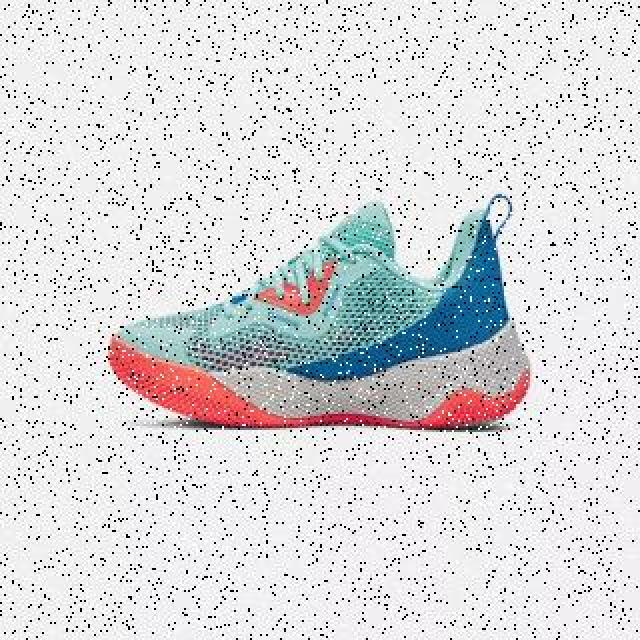shoe: (109, 196, 531, 430)
